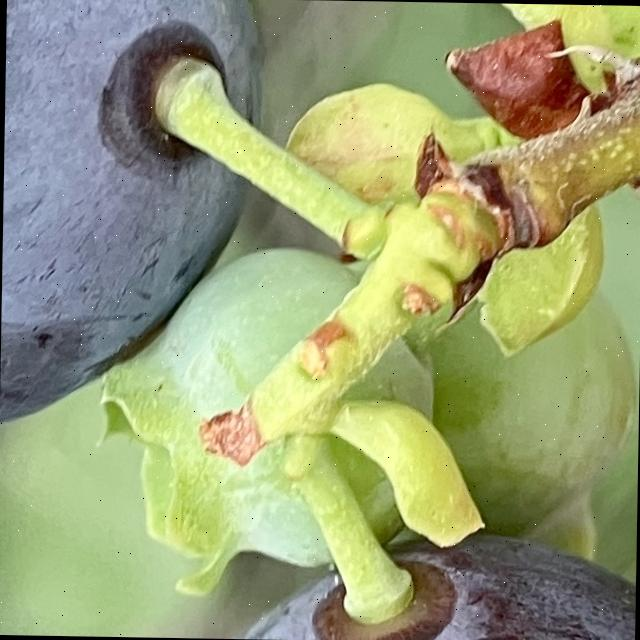Blueberries: (0, 0, 262, 436)
